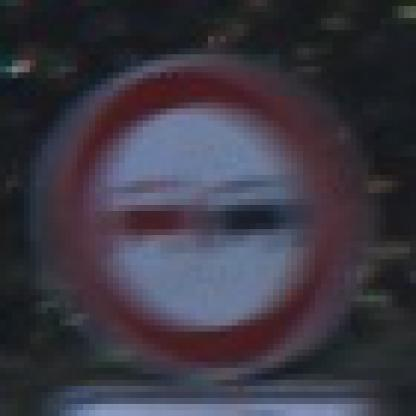No Overtaking: (37, 37, 381, 381)
